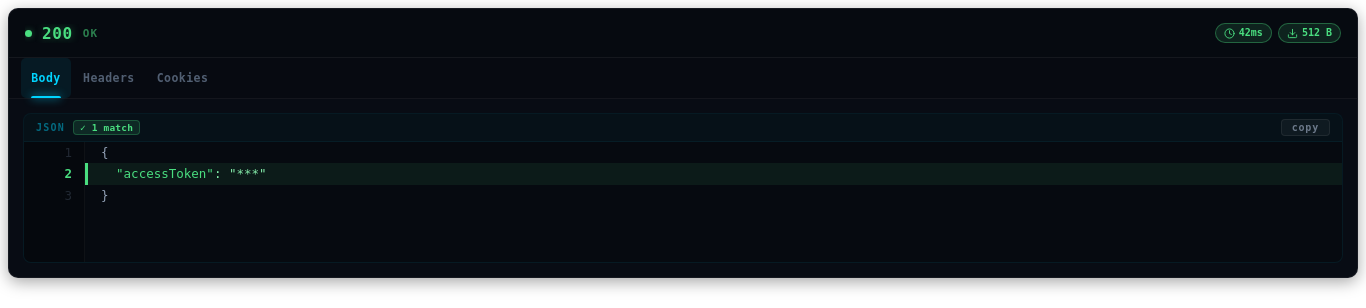
ResponsePanel — secure defaults › matches expectations against raw response data while rendering redacted values
Check: the element with class "line-match" is shown, box [85,163,1342,185]
Click the button "Headers" at (109, 78), box [73,58,145,98]
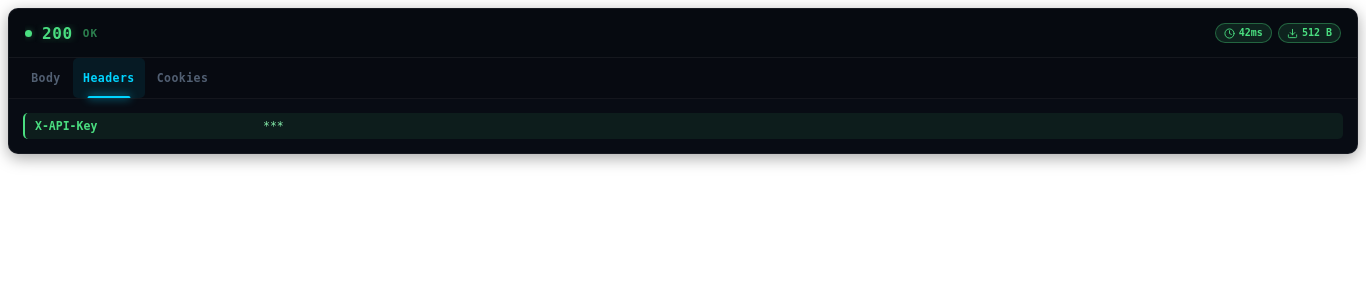
Check: the element with class "header-match" is shown, box [23,113,1343,139]
